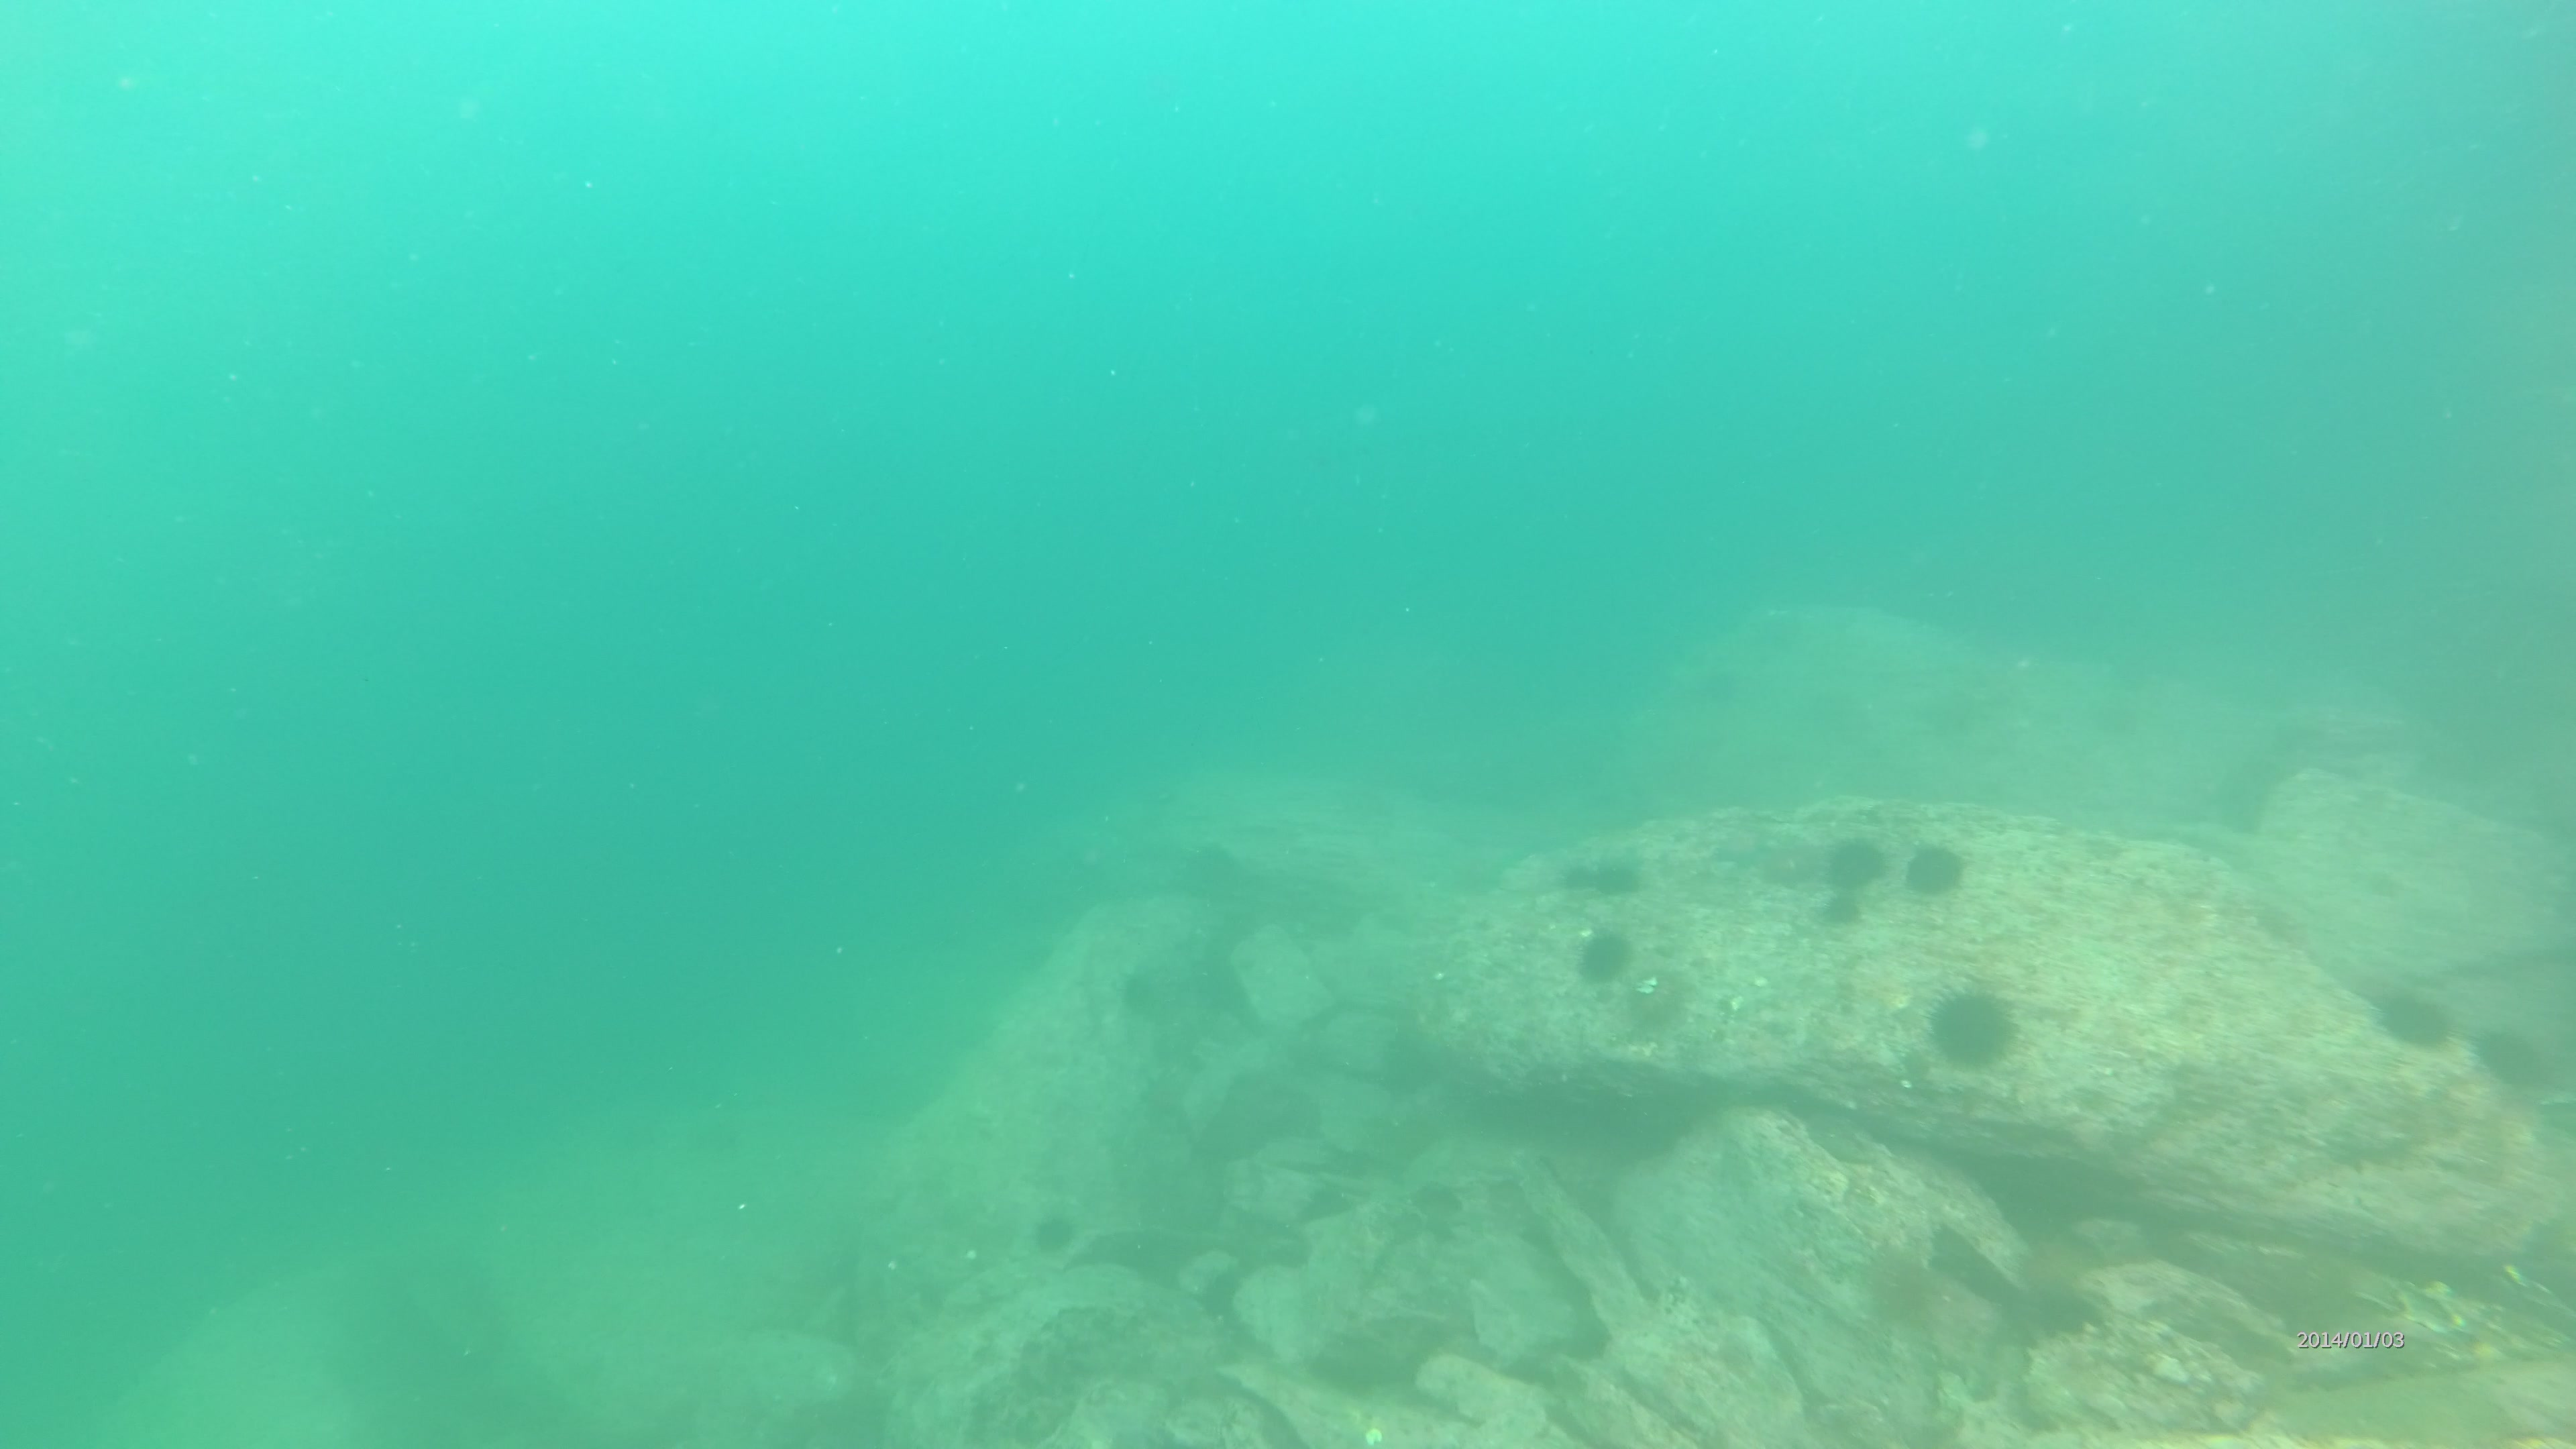echinus: (1920, 980, 2031, 1076), (1990, 1237, 2104, 1330), (2376, 989, 2463, 1054), (2475, 1021, 2549, 1088), (1571, 925, 1640, 991), (1829, 835, 1893, 897), (1900, 840, 1967, 897), (1631, 962, 1690, 1026), (1594, 851, 1638, 897)
